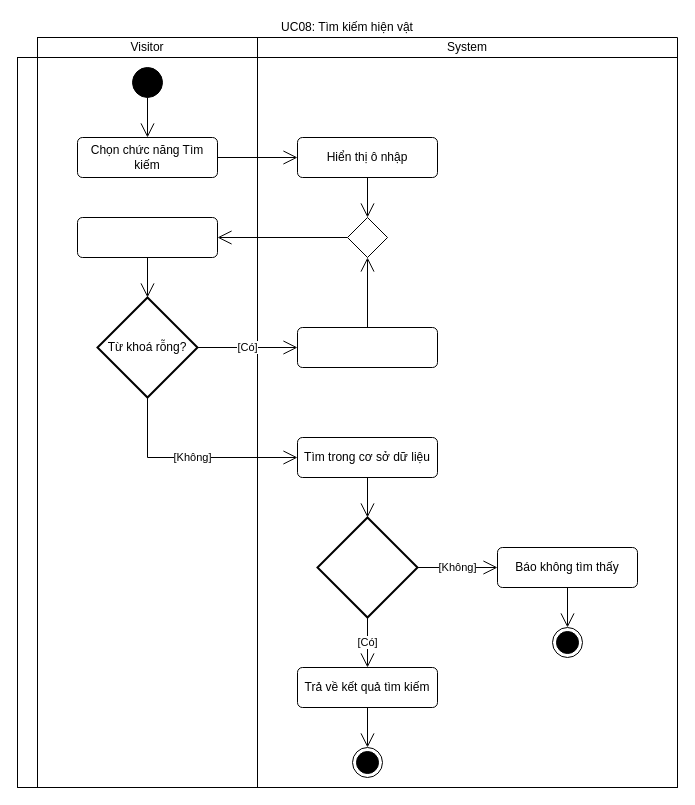
The diagram is 695 pixels wide and 805 high, and some of its shapes have lost their labels. Here are the shapes that lost their labels. From the top down, the centre of each, then its label:
point (147, 237): Nhập từ khoá hoặc mã số hiện vật
point (367, 347): Yêu cầu người dùng nhập từ khoá hoặc mã
point (367, 567): Có kết quả?
